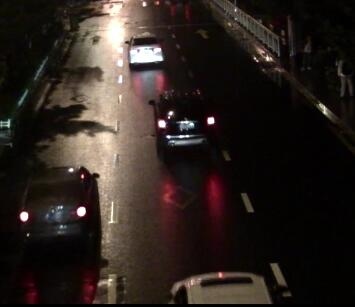car: (9, 165, 99, 237), (145, 87, 224, 154), (165, 271, 276, 304), (124, 33, 165, 66)
